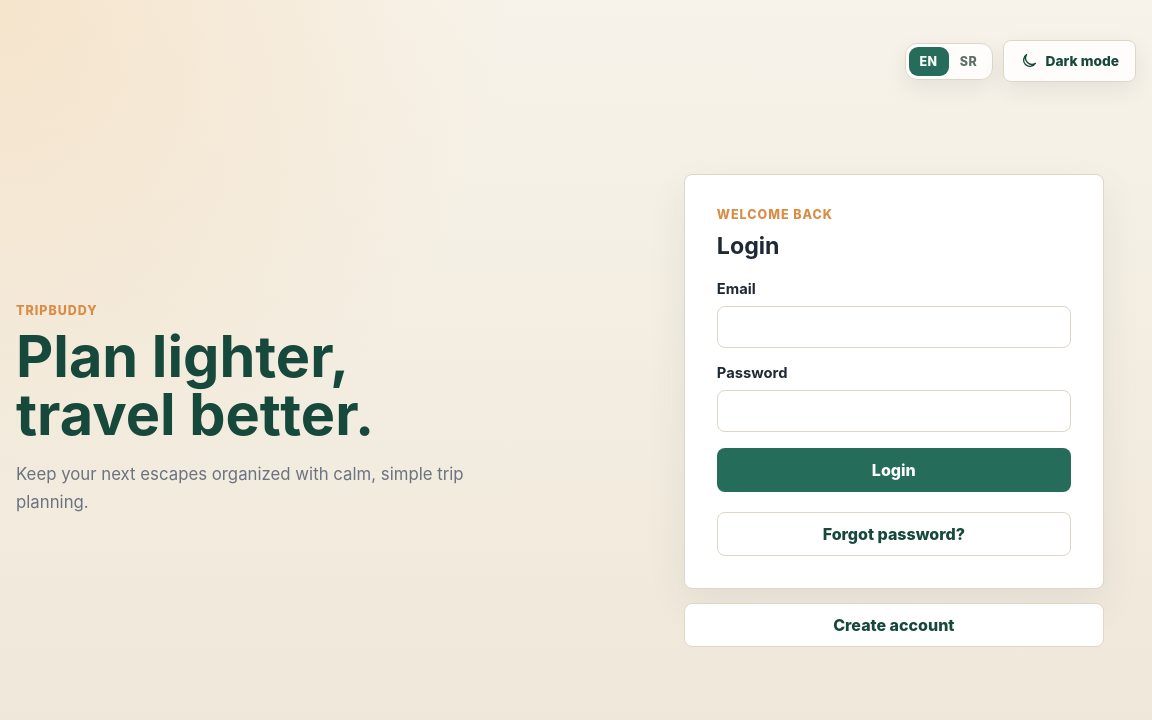
Test: TripBuddy frontend › registers with a name and returns to login
Step 1. Click the button "Create account" → x=894, y=624, box [684,602,1104,646]
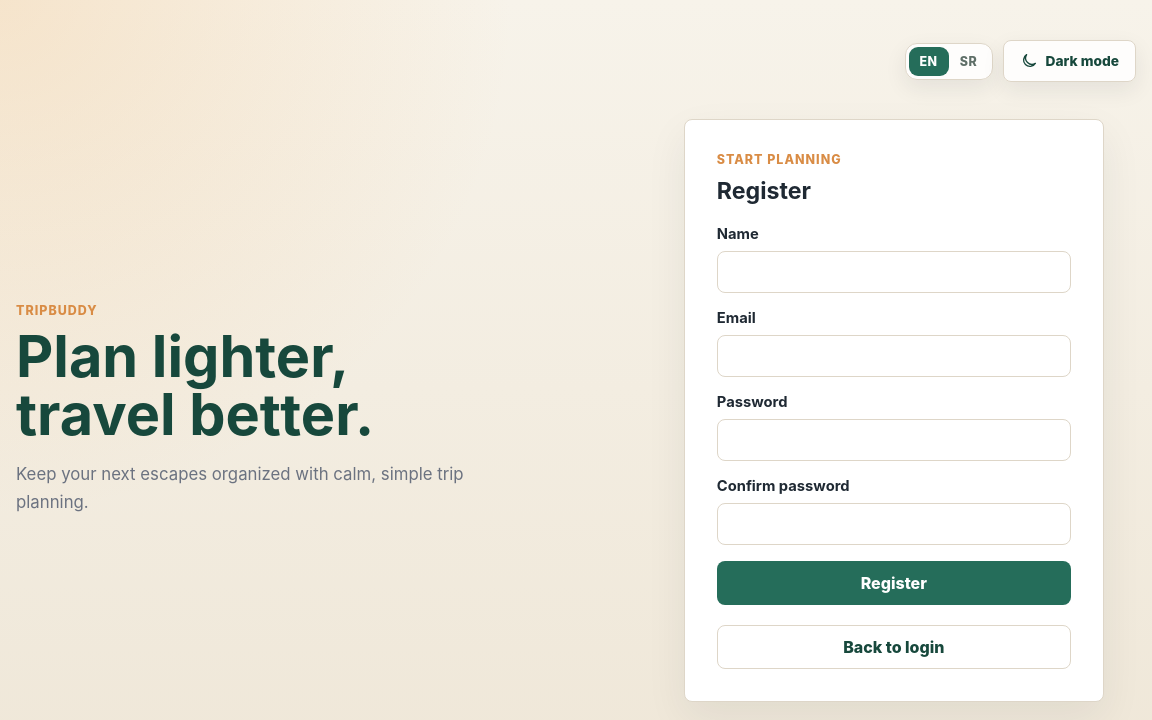
Step 2. Type "  Ana Traveler  " into the field labelled "Name" → x=894, y=272, box [717,250,1071,292]
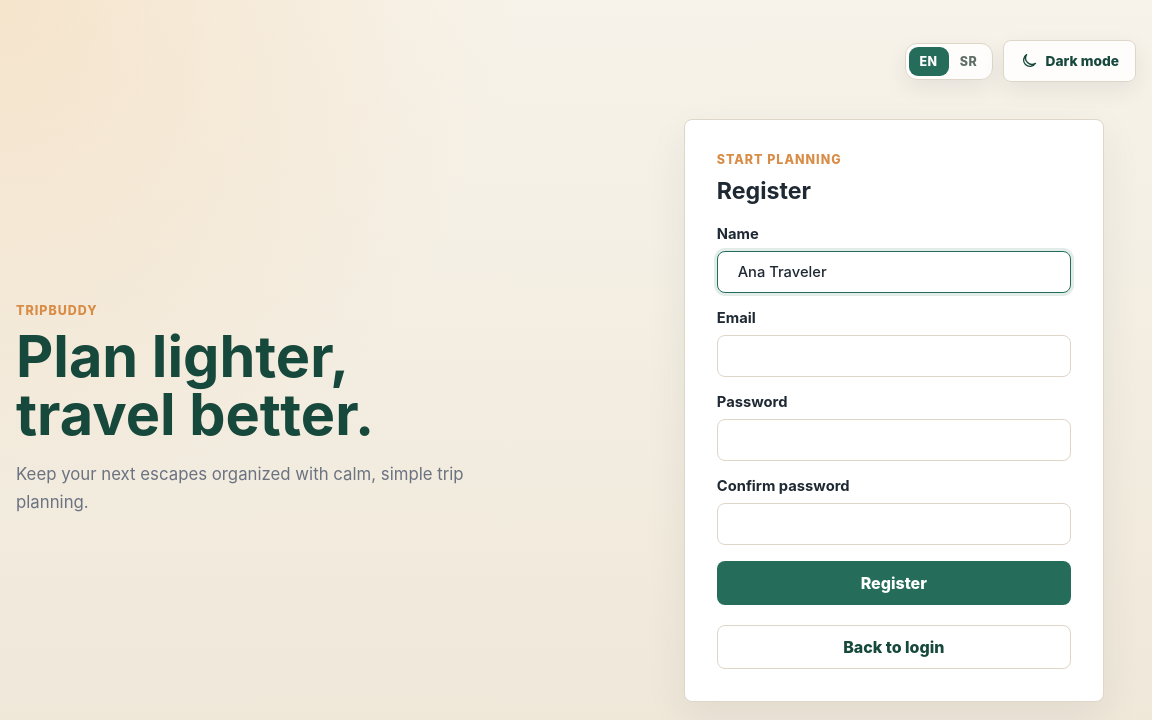
Step 3. Type "ANA@EXAMPLE.COM" into the field labelled "Email" → x=894, y=356, box [717,334,1071,376]
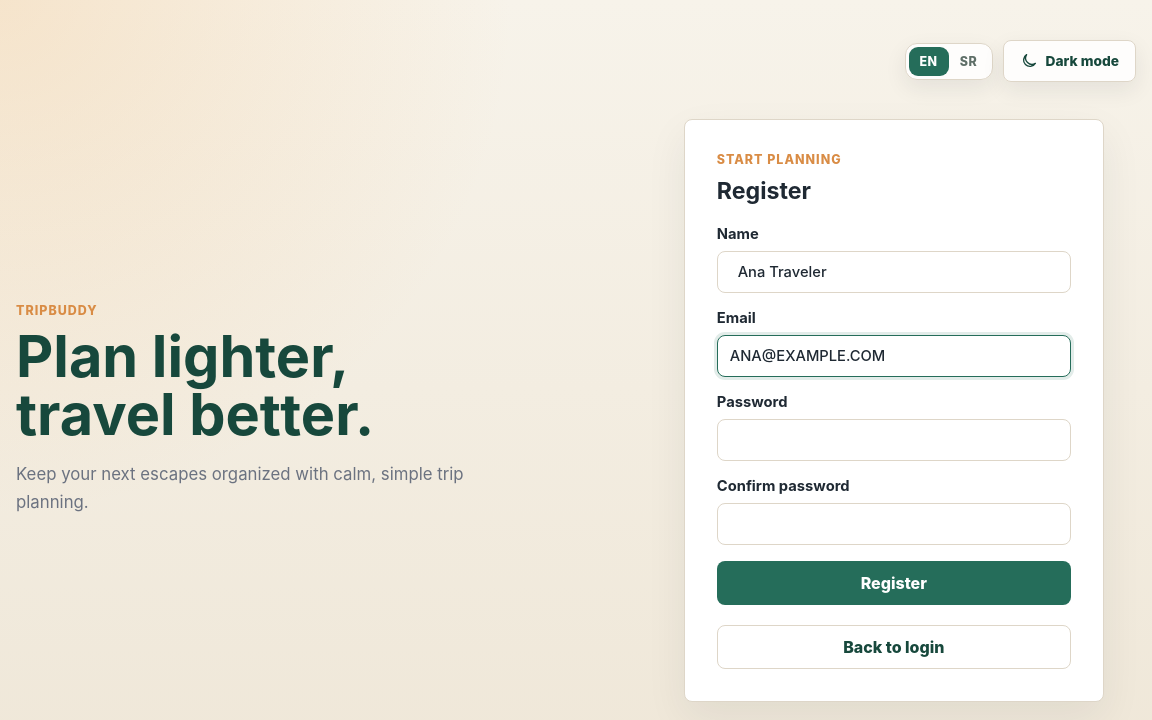
Step 4. Type "password123" into the password field labelled "Password" → x=894, y=440, box [717,418,1071,460]
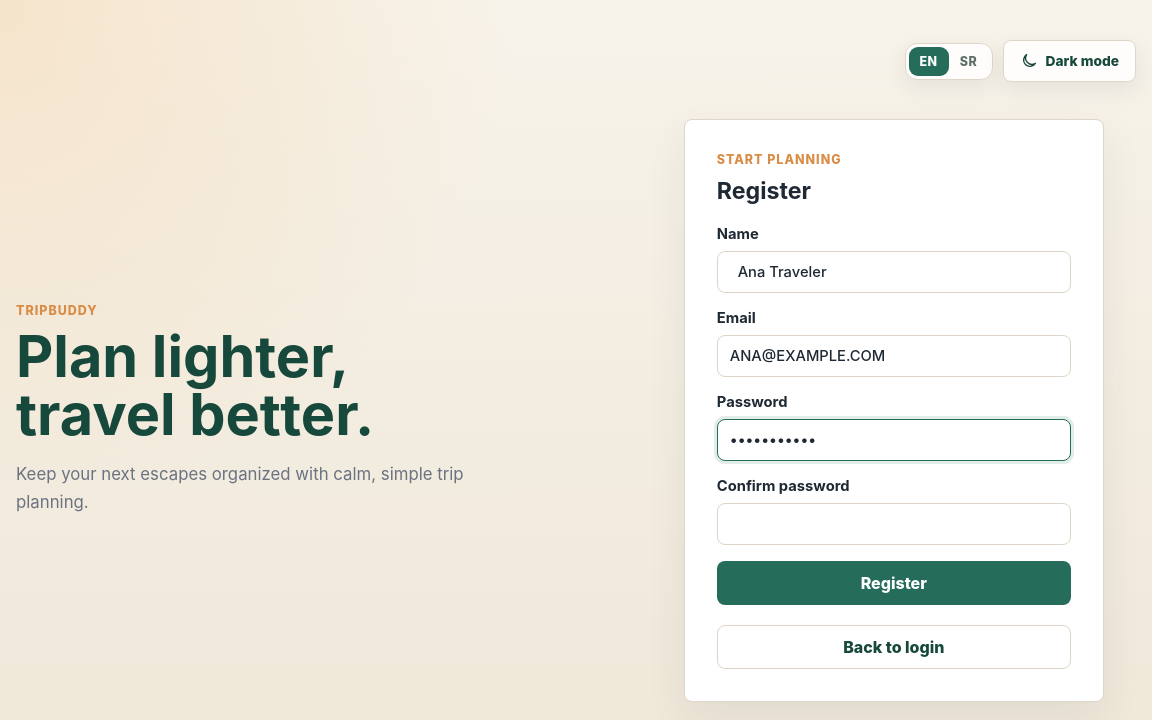
Step 5. Type "password123" into the password field labelled "Confirm password" → x=894, y=524, box [717,502,1071,544]
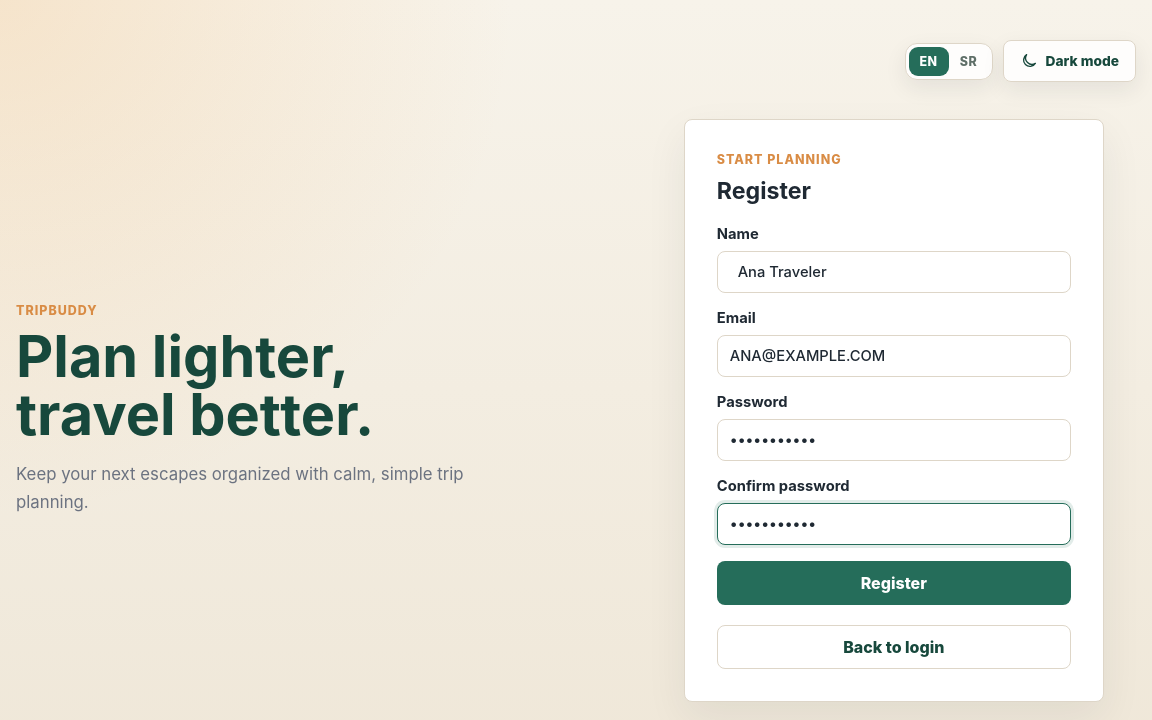
Step 6. Click the button "Register" → x=894, y=582, box [717,560,1071,604]
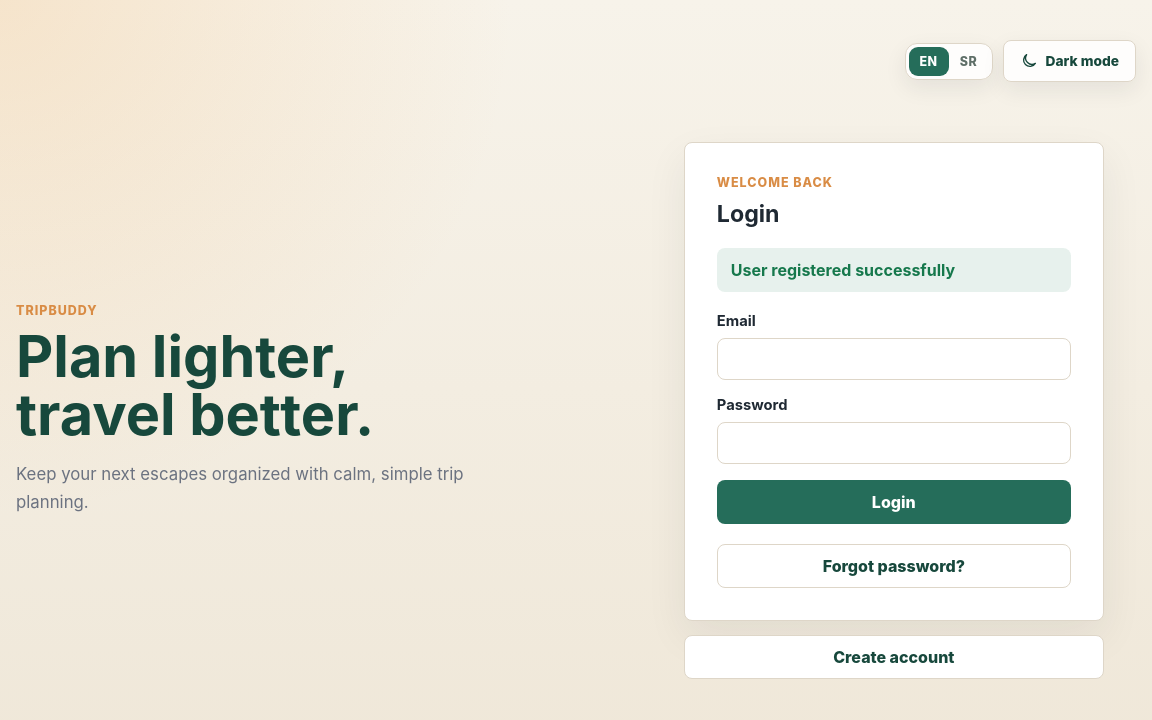
Result: the heading "Login" is shown at [717,200,780,228]
Result: the text "User registered successfully" is shown at [717,248,1071,292]
